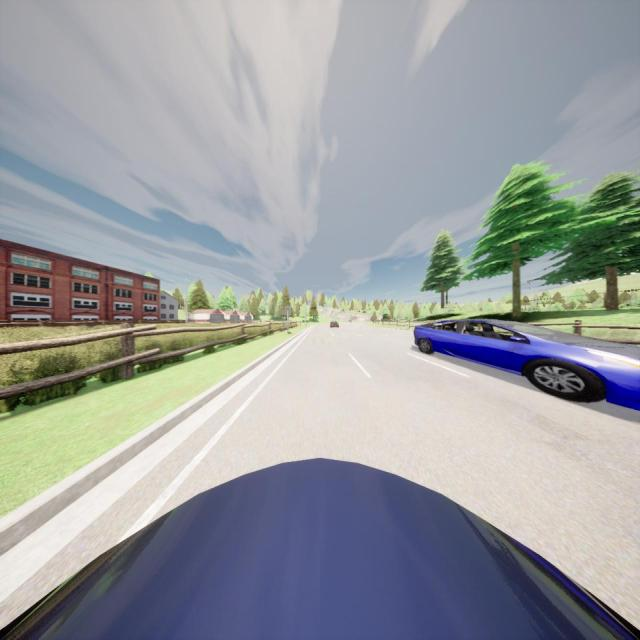Traffic_Signs: (285, 306, 291, 316)
Vehicle: (0, 455, 640, 640), (414, 319, 640, 410), (330, 320, 339, 328)
